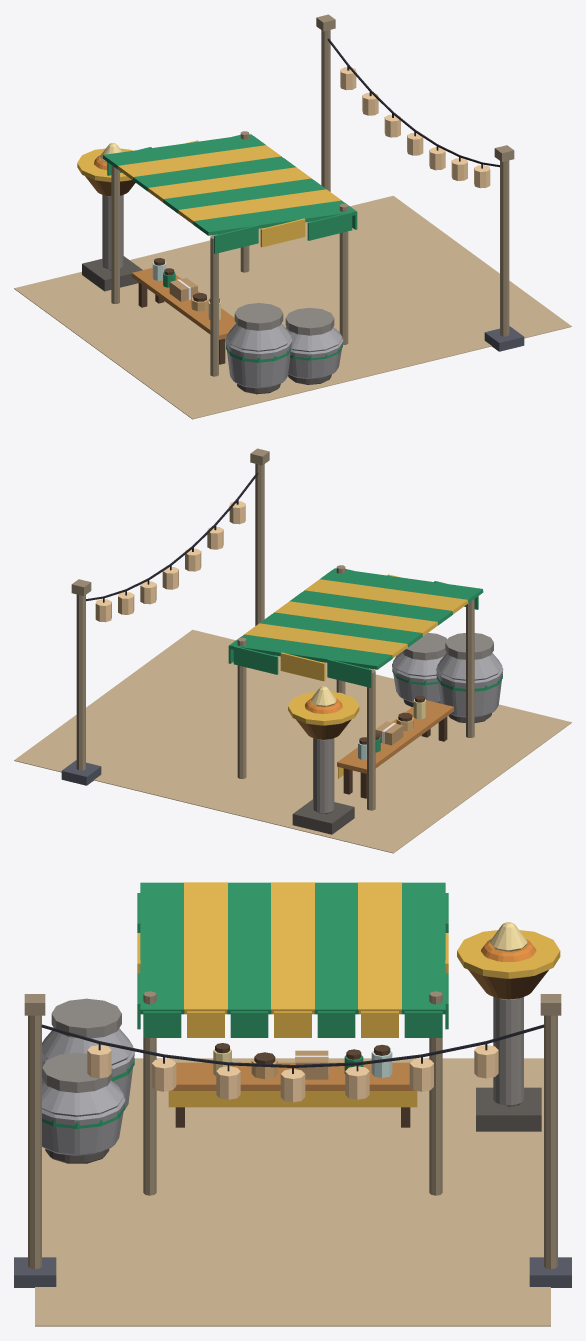
The model's file is CatCafe_Camp_Ruins_Growth.glb.
The picture shows the model from 3 angles, top to bottom: view 1: azimuth 30°, elevation 25°; view 2: azimuth 150°, elevation 25°; view 3: azimuth 270°, elevation 25°; orthographic projection. The views are drawn at different scales.
Visible parts, largest first — view 1: CatCafe_Camp_Ruins_Growth, CatCafe_Camp_Ruins_Growth_000_Stall, CatCafe_Camp_Ruins_Growth_002_Urn, CatCafe_Camp_Ruins_Growth_001_Lanterns, CatCafe_Camp_Ruins_Growth_003_Urn, CatCafe_Camp_Ruins_Growth_004_Brazier, CatCafe_Camp_Ruins_Growth_001_Lanterns_Bulbs, CatCafe_Camp_Ruins_Growth_000_Stall_Decor, CatCafe_Camp_Ruins_Growth_001_Lanterns_Decor; view 2: CatCafe_Camp_Ruins_Growth, CatCafe_Camp_Ruins_Growth_000_Stall, CatCafe_Camp_Ruins_Growth_004_Brazier, CatCafe_Camp_Ruins_Growth_001_Lanterns, CatCafe_Camp_Ruins_Growth_002_Urn, CatCafe_Camp_Ruins_Growth_003_Urn, CatCafe_Camp_Ruins_Growth_001_Lanterns_Bulbs, CatCafe_Camp_Ruins_Growth_000_Stall_Decor, CatCafe_Camp_Ruins_Growth_004_Brazier_Glow, CatCafe_Camp_Ruins_Growth_001_Lanterns_Decor; view 3: CatCafe_Camp_Ruins_Growth, CatCafe_Camp_Ruins_Growth_000_Stall, CatCafe_Camp_Ruins_Growth_001_Lanterns, CatCafe_Camp_Ruins_Growth_004_Brazier, CatCafe_Camp_Ruins_Growth_003_Urn, CatCafe_Camp_Ruins_Growth_001_Lanterns_Bulbs, CatCafe_Camp_Ruins_Growth_002_Urn, CatCafe_Camp_Ruins_Growth_000_Stall_Decor, CatCafe_Camp_Ruins_Growth_001_Lanterns_Decor, CatCafe_Camp_Ruins_Growth_004_Brazier_Glow.
Boxes of the visible parts, x1,y1,x2,y2 form: CatCafe_Camp_Ruins_Growth: (14,195,571,419); CatCafe_Camp_Ruins_Growth_000_Stall: (102,131,357,376); CatCafe_Camp_Ruins_Growth_002_Urn: (225,303,292,394); CatCafe_Camp_Ruins_Growth_001_Lanterns: (316,14,524,351); CatCafe_Camp_Ruins_Growth_003_Urn: (285,308,343,384); CatCafe_Camp_Ruins_Growth_004_Brazier: (77,148,142,291); CatCafe_Camp_Ruins_Growth_001_Lanterns_Bulbs: (340,67,490,188); CatCafe_Camp_Ruins_Growth_000_Stall_Decor: (152,258,220,319); CatCafe_Camp_Ruins_Growth_001_Lanterns_Decor: (327,38,499,168); CatCafe_Camp_Ruins_Growth: (14,629,571,853); CatCafe_Camp_Ruins_Growth_000_Stall: (228,565,483,810); CatCafe_Camp_Ruins_Growth_004_Brazier: (288,692,359,834); CatCafe_Camp_Ruins_Growth_001_Lanterns: (61,448,269,785); CatCafe_Camp_Ruins_Growth_002_Urn: (436,633,503,722); CatCafe_Camp_Ruins_Growth_003_Urn: (392,633,447,706); CatCafe_Camp_Ruins_Growth_001_Lanterns_Bulbs: (95,501,245,622); CatCafe_Camp_Ruins_Growth_000_Stall_Decor: (358,695,426,759); CatCafe_Camp_Ruins_Growth_004_Brazier_Glow: (305,686,342,713); CatCafe_Camp_Ruins_Growth_001_Lanterns_Decor: (86,472,258,602); CatCafe_Camp_Ruins_Growth: (35,1058,550,1326); CatCafe_Camp_Ruins_Growth_000_Stall: (137,882,448,1195); CatCafe_Camp_Ruins_Growth_001_Lanterns: (14,994,571,1287); CatCafe_Camp_Ruins_Growth_004_Brazier: (457,930,560,1131); CatCafe_Camp_Ruins_Growth_003_Urn: (42,1052,125,1163); CatCafe_Camp_Ruins_Growth_001_Lanterns_Bulbs: (87,1045,498,1102); CatCafe_Camp_Ruins_Growth_002_Urn: (42,998,134,1110); CatCafe_Camp_Ruins_Growth_000_Stall_Decor: (213,1043,392,1079); CatCafe_Camp_Ruins_Growth_001_Lanterns_Decor: (41,1024,544,1073); CatCafe_Camp_Ruins_Growth_004_Brazier_Glow: (481,922,536,961).
Bounding box in the file's own units: 13.5 × 6.6 × 11.9.
1 material, 1 textured.
